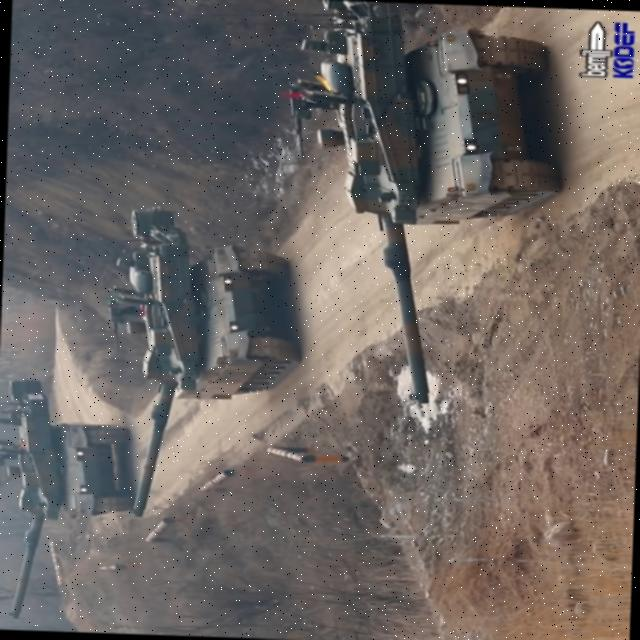korea tank: (98, 204, 305, 524)
